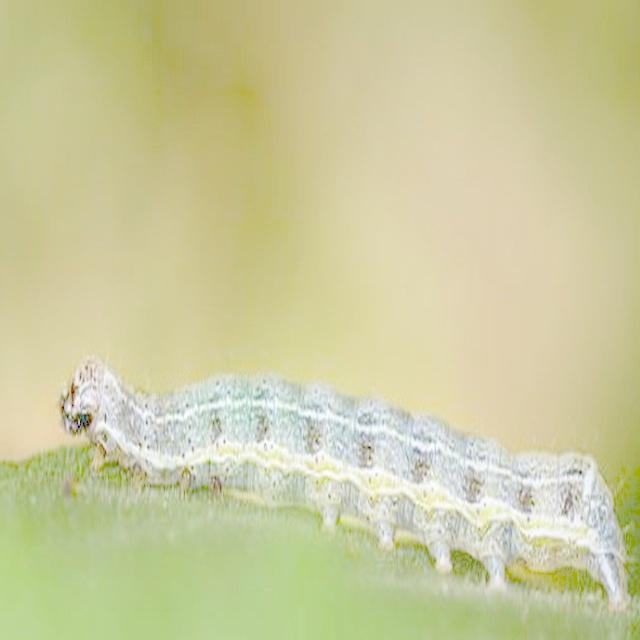gusano_cogollero: (60, 362, 627, 596)
